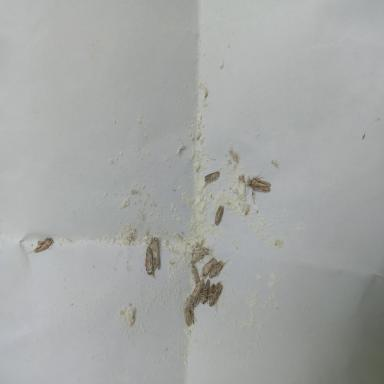pbw: (186, 240, 211, 260), (27, 237, 54, 254), (208, 282, 223, 308), (188, 279, 202, 305), (200, 256, 216, 278), (145, 246, 155, 279), (152, 237, 160, 276), (209, 261, 229, 276), (184, 302, 196, 326), (203, 171, 220, 187), (190, 261, 201, 285), (199, 279, 210, 302), (214, 206, 224, 225), (190, 255, 204, 264)
